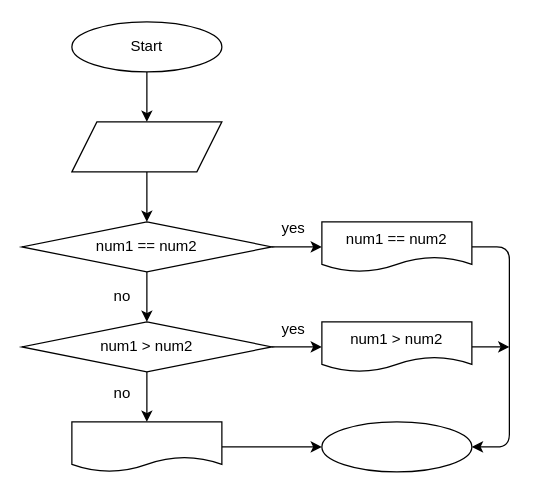
This 541x494 diagram has some shape labels left out. Each missing label, with the centre of its shape:
"Finish" goes at [396,446].
"num1 < num2" goes at [146,446].
"num1, num2" goes at [146,146].
